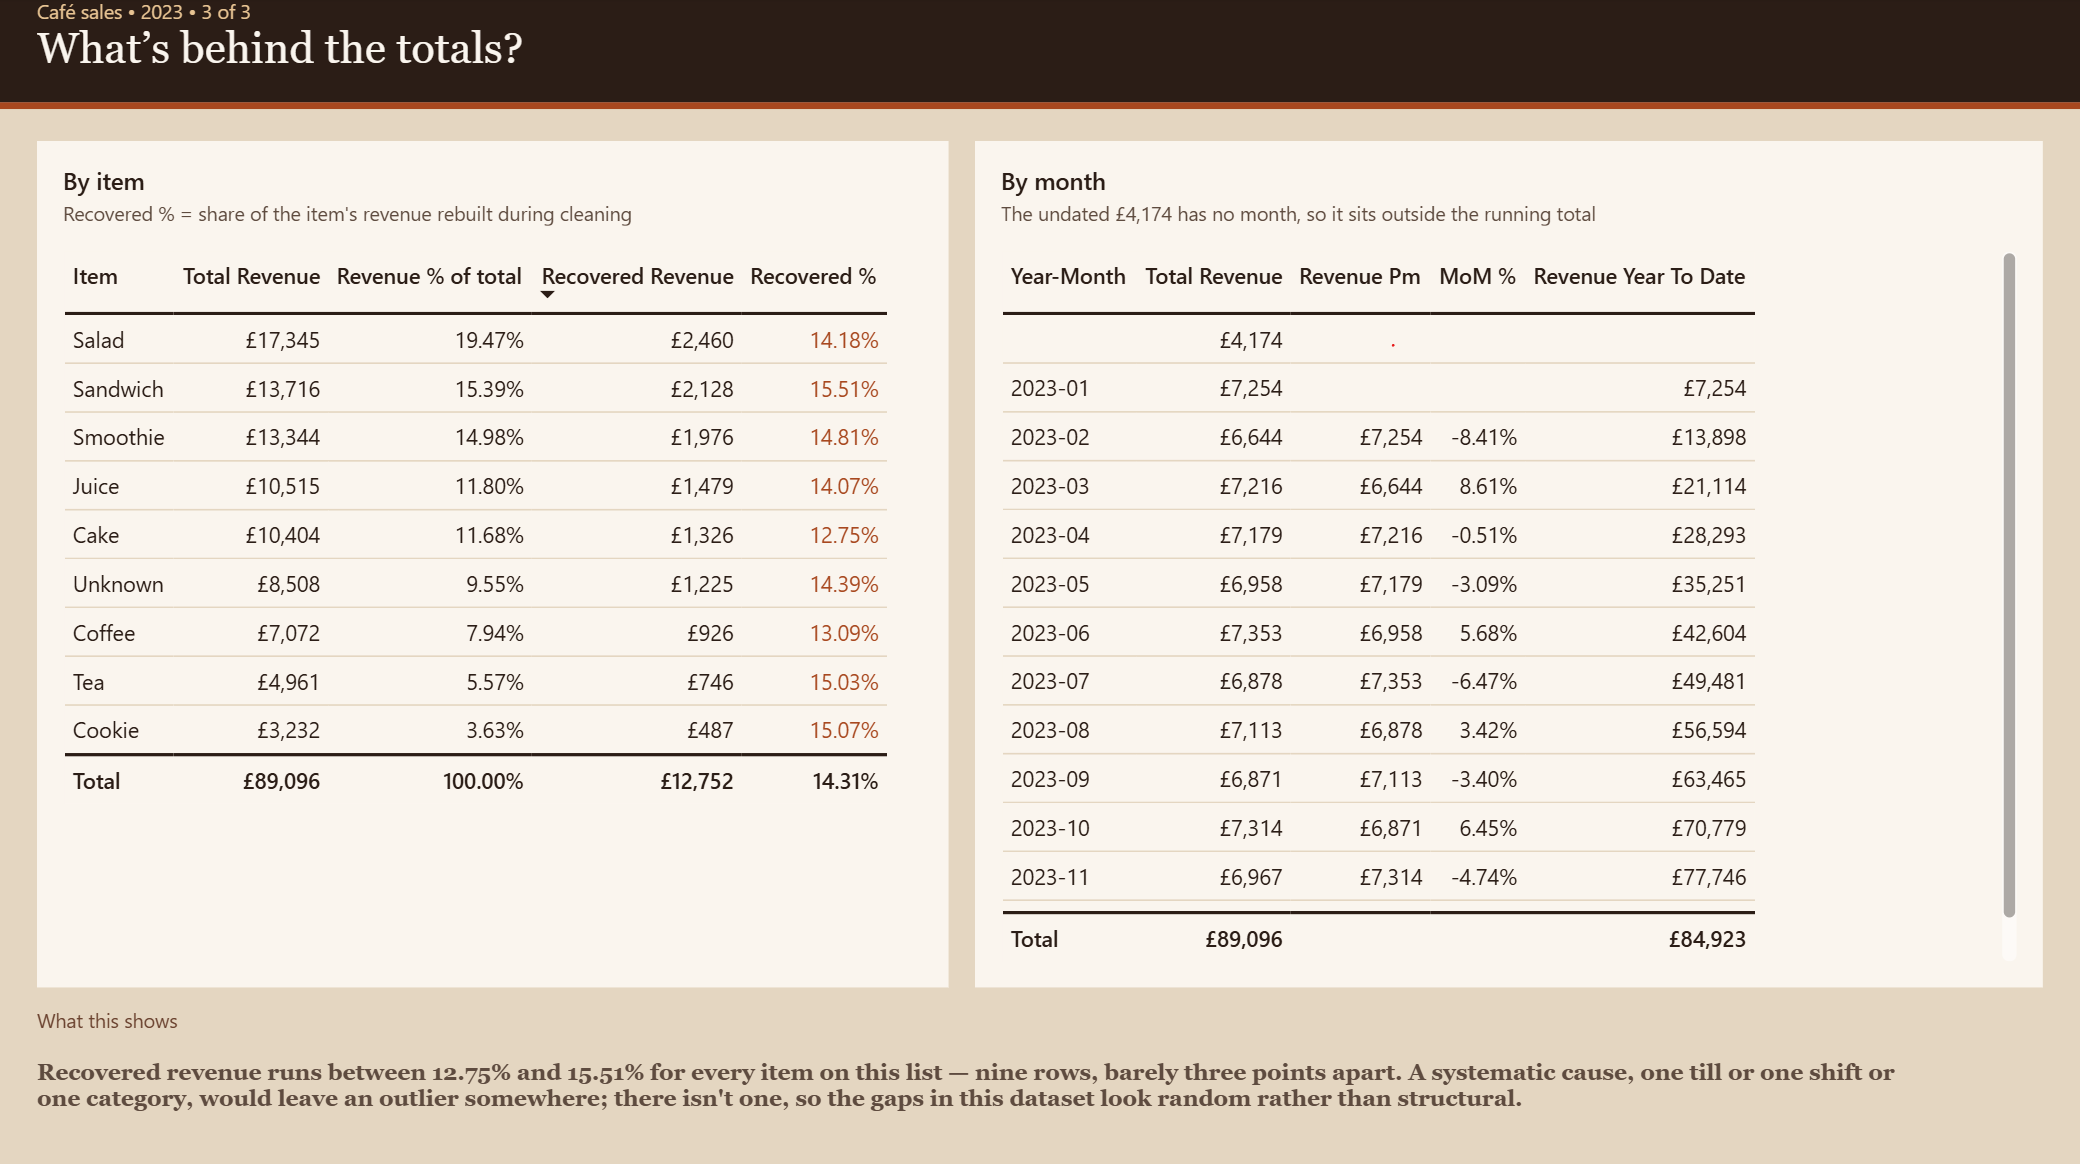

What the dashboard file says about the page in this screenshot:
{"tool":"powerbi","page":{"name":"3","canvas":[1280,720],"ordinal":2},"visuals":[{"type":"tableEx","title":"By month","fields":{"Values":["Dates.Year-Month","_Measures.Total Revenue","_Measures.Revenue Pm","_Measures.MoM %","_Measures.Revenue Year To Date"]},"box":[600,88,656,520],"z":0},{"type":"tableEx","title":"By item","fields":{"Values":["cafe_project dim_item.ITEM","_Measures.Total Revenue","_Measures.Revenue % of total","_Measures.Recovered Revenue","_Measures.Recovered %"]},"box":[24,88,560,520],"z":1000},{"type":"shape","title":"bar-header-rule","box":[0,52,1280,16],"z":2000},{"type":"shape","title":"bar-header-bg","box":[0,0,1280,64],"z":3000},{"type":"textbox","title":"bar-header-text","box":[24,0,760,64],"z":4000},{"type":"textbox","box":[24,620,1232,88],"z":5000}]}

Visuals, with their boxes in screenshot pixels (x1, y1, x2, y2), scaled from the page's 1280x720 canvas onto the 2080x1164 screenshot:
"By month" tableEx: <bbox>975, 142, 2041, 983</bbox>
"By item" tableEx: <bbox>39, 142, 949, 983</bbox>
"bar-header-rule" shape: <bbox>0, 84, 2079, 110</bbox>
"bar-header-bg" shape: <bbox>0, 0, 2079, 103</bbox>
"bar-header-text" textbox: <bbox>39, 0, 1274, 103</bbox>
textbox: <bbox>39, 1002, 2041, 1145</bbox>
